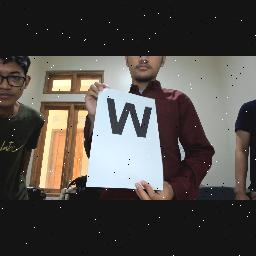w: (103, 94, 153, 142)
